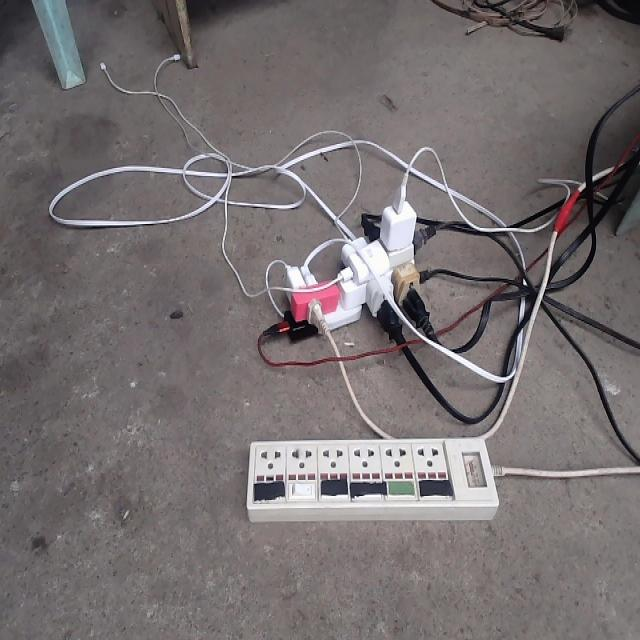-: (269, 188, 439, 347)
